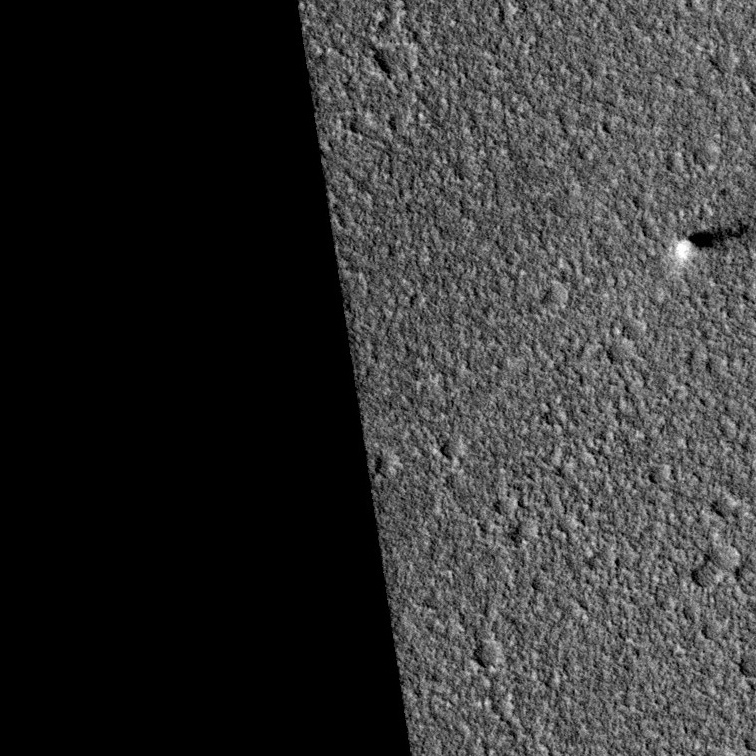dust_devil: (668, 220, 756, 272)
